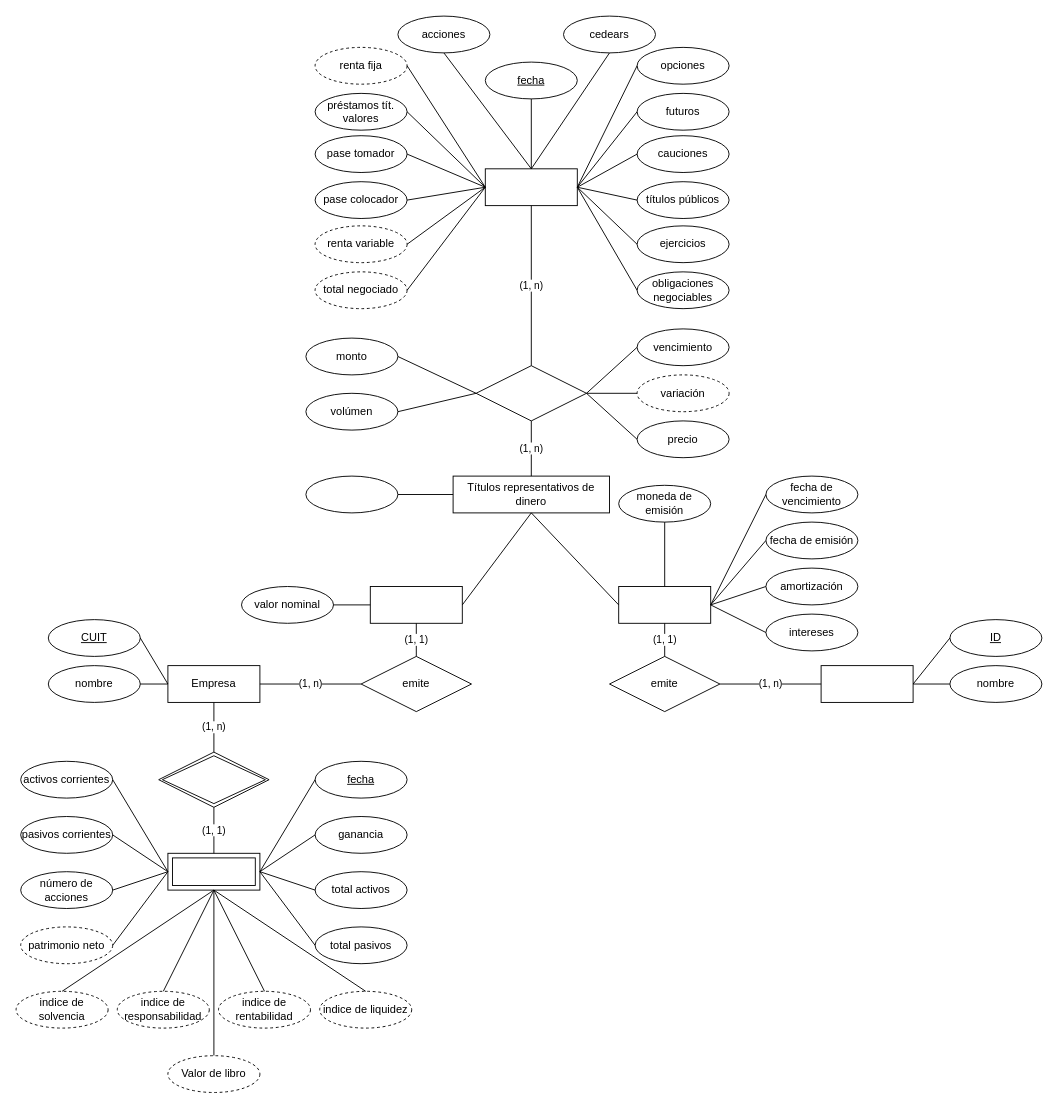
Image size: 1058x1109. Some labels were removed from this diagram. Here are the shapes that lost their labels. From the top down, the centre of each, then its label:
the point at 530,187: Cierre
the point at 530,393: en
the point at 351,494: especie
the point at 415,604: Acción
the point at 664,604: Bono
the point at 866,683: Estado
the point at 213,779: tiene
the point at 213,871: Estados contables
